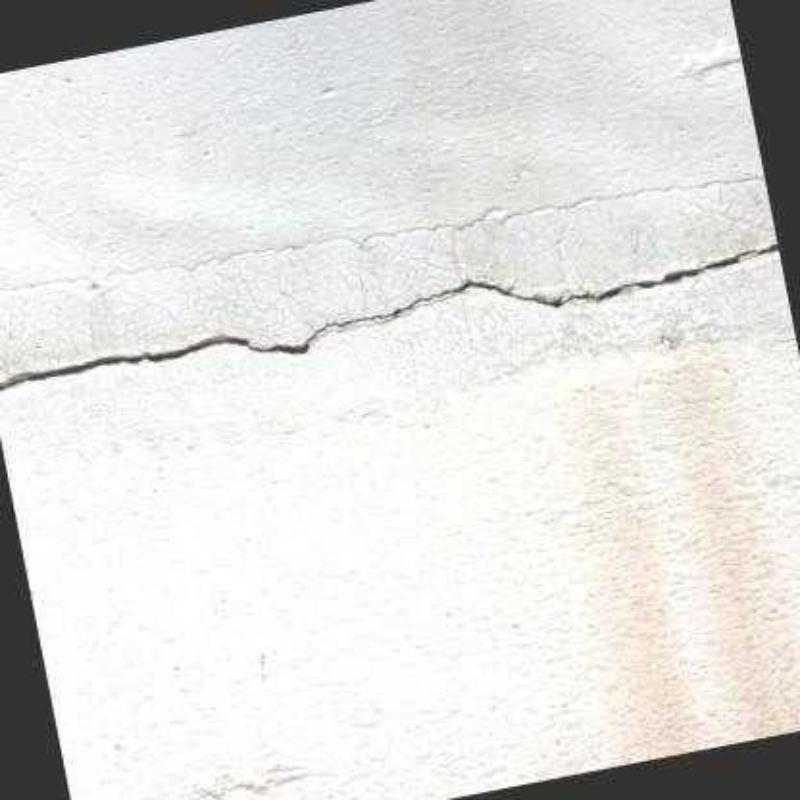pothole: (1, 241, 779, 391), (2, 169, 769, 294)
